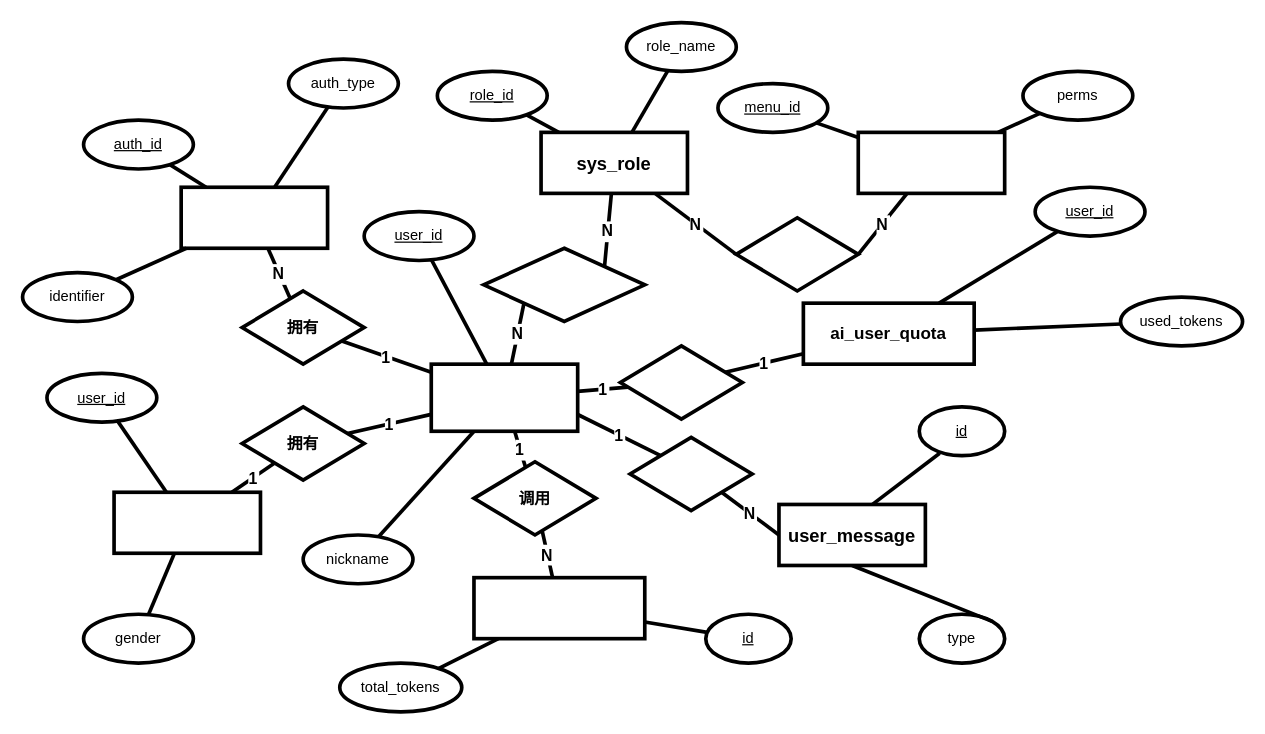
The diagram is 1265 pixels wide and 734 high, and some of its shapes have lost their labels. The centre of each missing label's shape, as x and y in pixels:
"ai_usage_log" belongs at point (559, 607).
"RoleMenu" belongs at point (796, 253).
"sys_menu" belongs at point (931, 162).
"sys_user" belongs at point (504, 397).
"sys_user_role" belongs at point (563, 284).
"user_auth" belongs at point (254, 217).
"user_info" belongs at point (187, 522).
"发布" belongs at point (690, 473).
"配额" belongs at point (681, 381).
